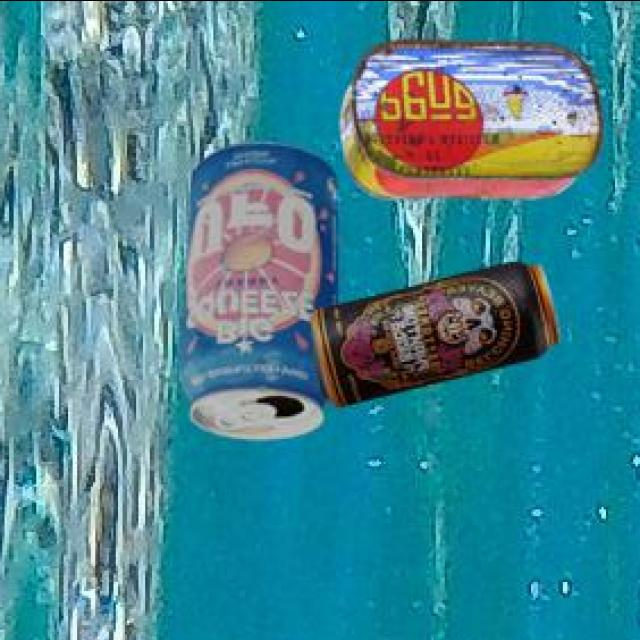logam: (176, 137, 335, 435), (337, 35, 600, 194), (308, 258, 557, 403)
